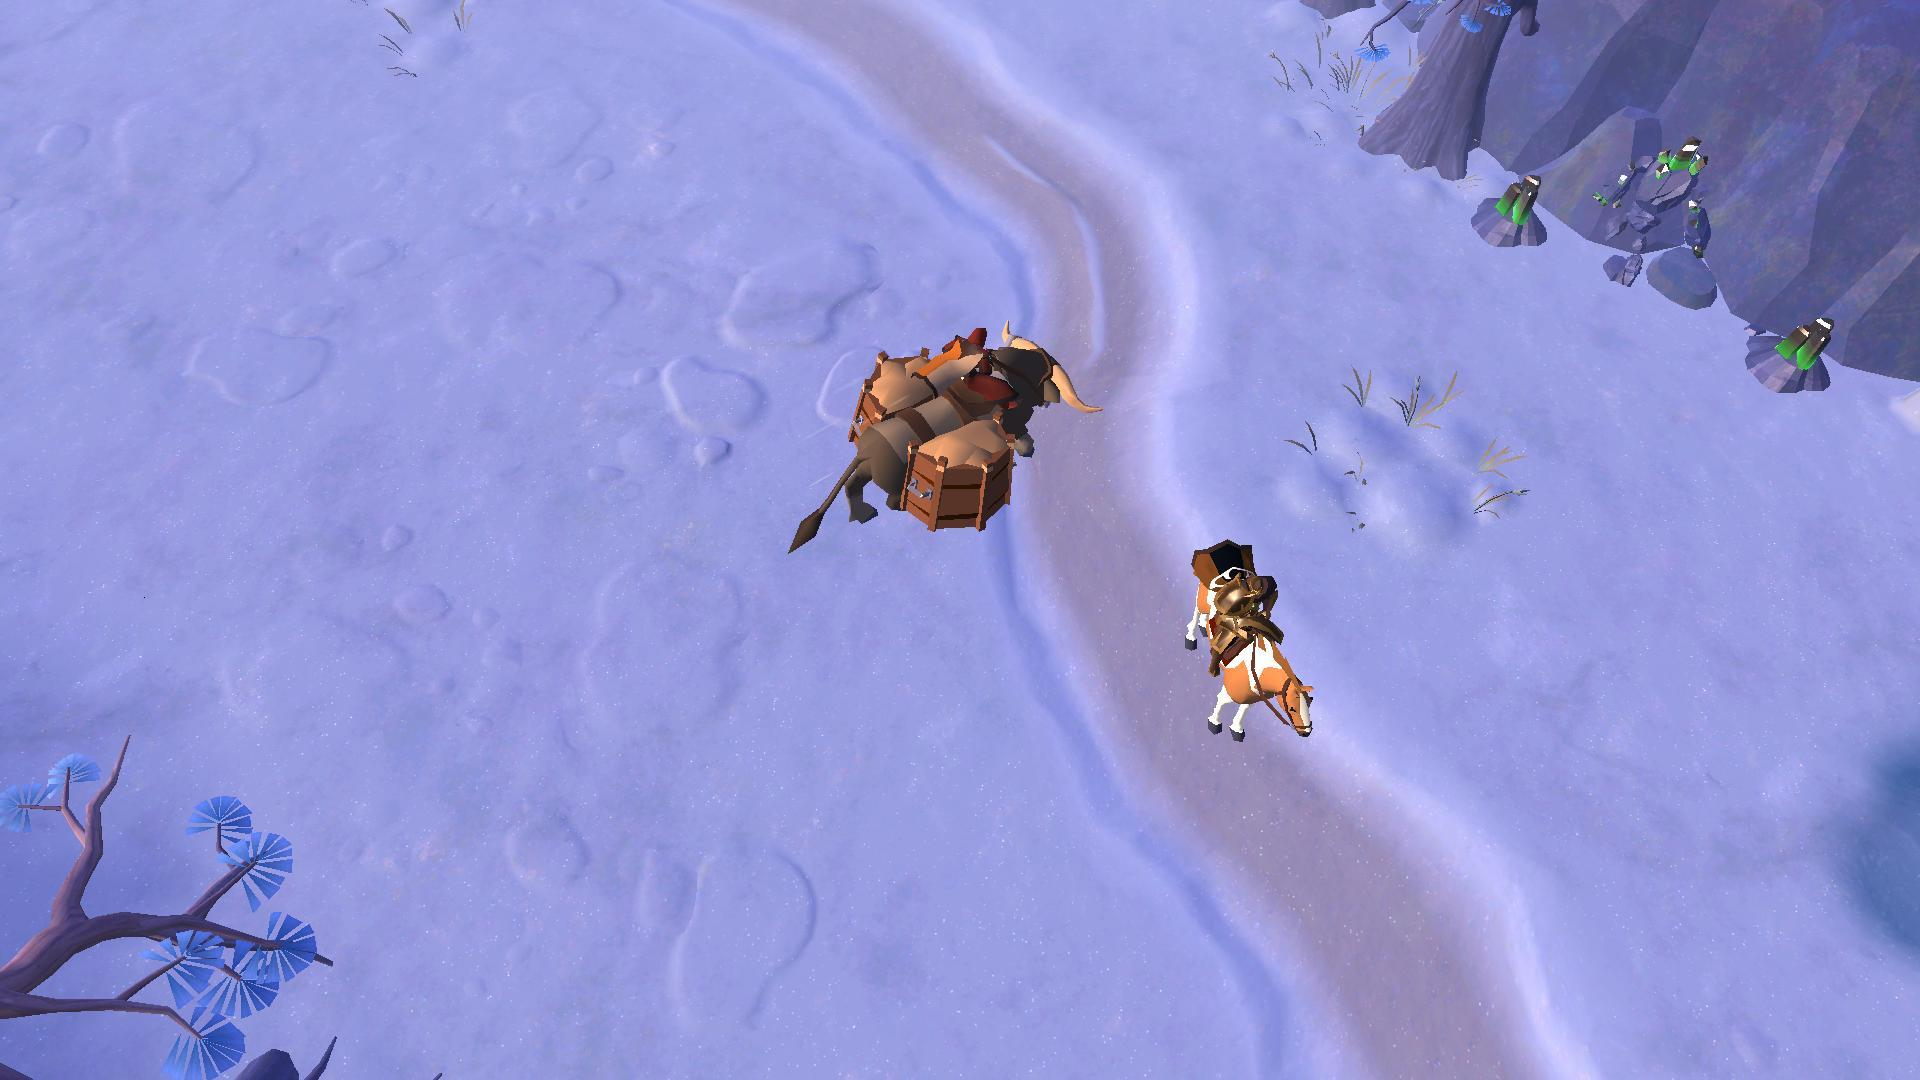ore_t3: (1767, 306, 1841, 378), (1494, 161, 1544, 232)
